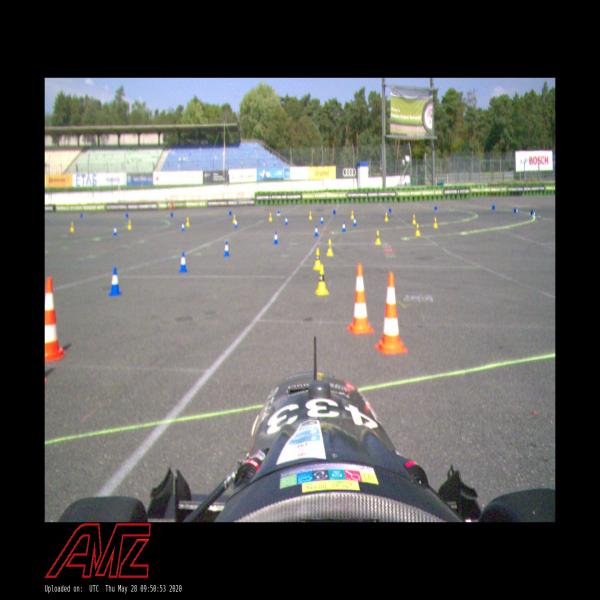blue_cone: (108, 268, 121, 296), (179, 252, 187, 273), (224, 241, 230, 256), (273, 231, 278, 246), (112, 225, 118, 237), (180, 221, 186, 232), (314, 224, 319, 236), (284, 215, 289, 227), (342, 221, 346, 232), (353, 216, 357, 227), (531, 209, 537, 216), (234, 218, 238, 228), (320, 214, 324, 224), (514, 207, 519, 214)
large_orange_cone: (374, 270, 408, 354), (346, 263, 376, 334), (44, 277, 64, 362)
yellow_cone: (314, 265, 329, 296), (312, 248, 322, 270), (326, 238, 334, 257), (375, 230, 381, 246), (415, 223, 421, 236), (69, 220, 75, 232), (433, 216, 439, 228), (185, 216, 190, 228), (127, 220, 132, 230), (308, 210, 312, 221), (232, 214, 236, 224), (268, 212, 272, 222), (384, 211, 388, 221), (412, 214, 416, 224), (351, 210, 354, 219)
